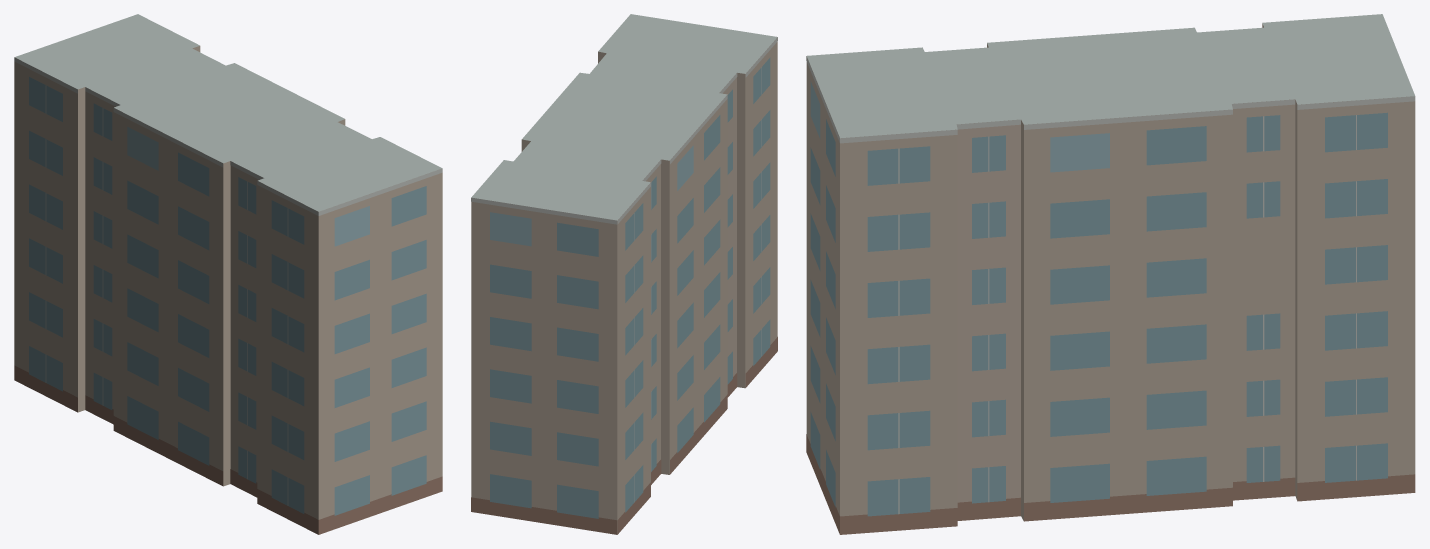
File: survey-upis-32577514.glb
3 renders of one model, left to right at view 1: azimuth 30°, elevation 25°; view 2: azimuth 150°, elevation 25°; view 3: azimuth 270°, elevation 25°, orthographic. The views are drawn at different scales.
Parts seen in each view (by area): view 1: survey-upis-32577514.tmp; view 2: survey-upis-32577514.tmp; view 3: survey-upis-32577514.tmp.
Part boxes in pixels (bbox=[...]): survey-upis-32577514.tmp: bbox=[14, 14, 442, 534]; survey-upis-32577514.tmp: bbox=[471, 14, 777, 534]; survey-upis-32577514.tmp: bbox=[806, 14, 1415, 534].
Size of the model in its own units: 12.43 by 18.5 by 25.74.
